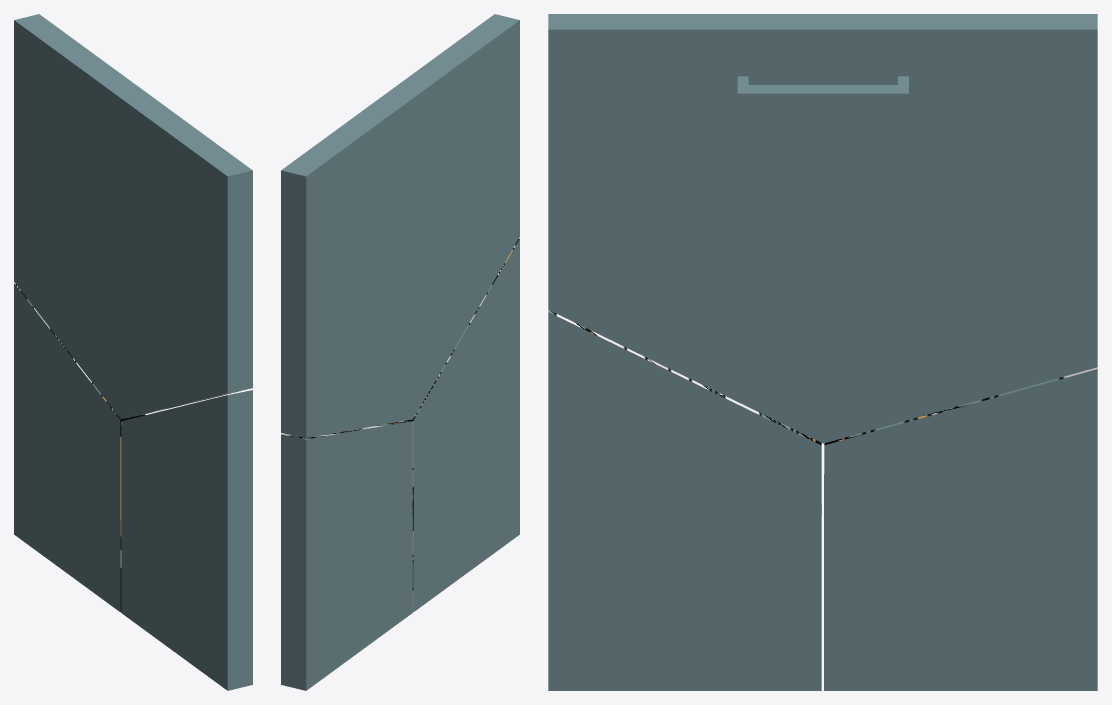
The model's file is Cabinet_Big_Door.003_cell.fbx.
The picture shows the model from 3 angles, left to right: view 1: azimuth 30°, elevation 25°; view 2: azimuth 150°, elevation 25°; view 3: azimuth 270°, elevation 25°; orthographic projection. The views are drawn at different scales.
Parts seen in each view (by area): view 1: Cabinet_Big_Door.003_cell.002, Cabinet_Big_Door.003_cell.001, Cabinet_Big_Door.003_cell; view 2: Cabinet_Big_Door.003_cell.002, Cabinet_Big_Door.003_cell, Cabinet_Big_Door.003_cell.001; view 3: Cabinet_Big_Door.003_cell.002, Cabinet_Big_Door.003_cell.001, Cabinet_Big_Door.003_cell, Cabinet_Big_Door.003_cell.003.
Part boxes in pixels (bbox=[...]): Cabinet_Big_Door.003_cell.002: bbox=[14, 14, 252, 418]; Cabinet_Big_Door.003_cell.001: bbox=[121, 390, 252, 690]; Cabinet_Big_Door.003_cell: bbox=[14, 283, 145, 612]; Cabinet_Big_Door.003_cell.002: bbox=[281, 14, 519, 437]; Cabinet_Big_Door.003_cell: bbox=[281, 420, 412, 690]; Cabinet_Big_Door.003_cell.001: bbox=[409, 238, 519, 612]; Cabinet_Big_Door.003_cell.002: bbox=[548, 14, 1097, 443]; Cabinet_Big_Door.003_cell.001: bbox=[548, 310, 821, 690]; Cabinet_Big_Door.003_cell: bbox=[824, 367, 1097, 690]; Cabinet_Big_Door.003_cell.003: bbox=[737, 76, 908, 128].
Bounding box in the file's own units: 7.26 × 67.34 × 50.7.
